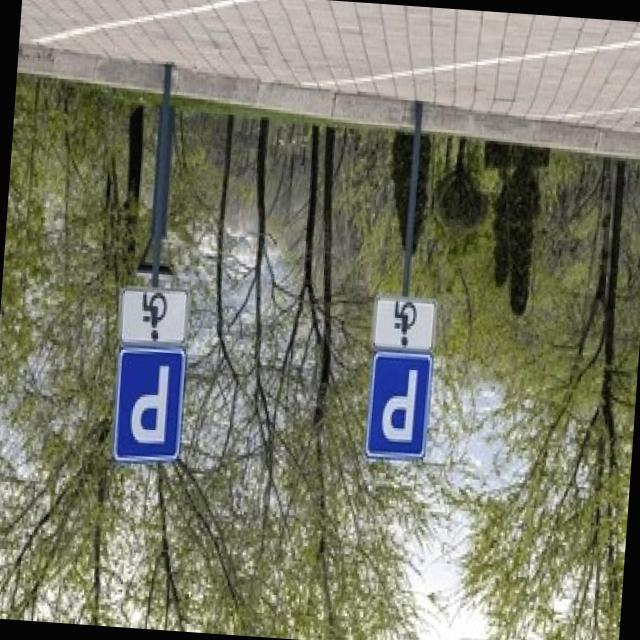symbol_of_access: (377, 296, 432, 352), (128, 290, 174, 346)
